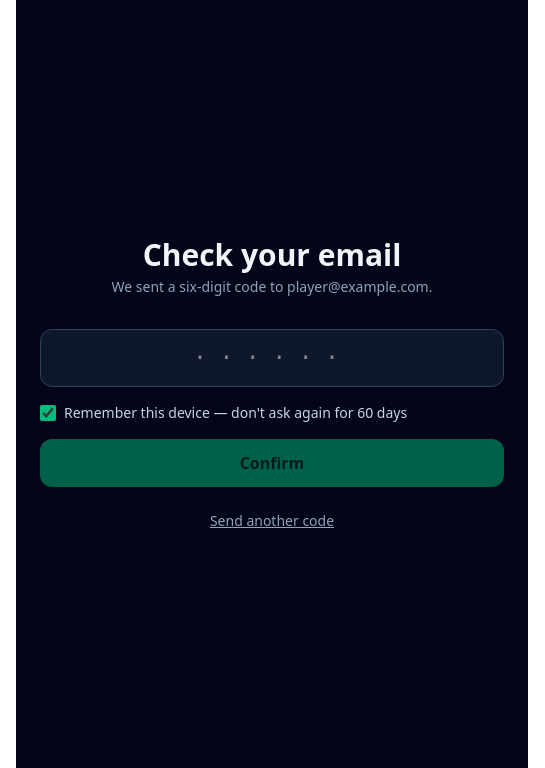
Test: VerifyCodeForm › tells the user when a code expired rather than failing quietly
Type "123456" into the field. click: (272, 358)
box: left=40, top=329, right=504, bottom=387
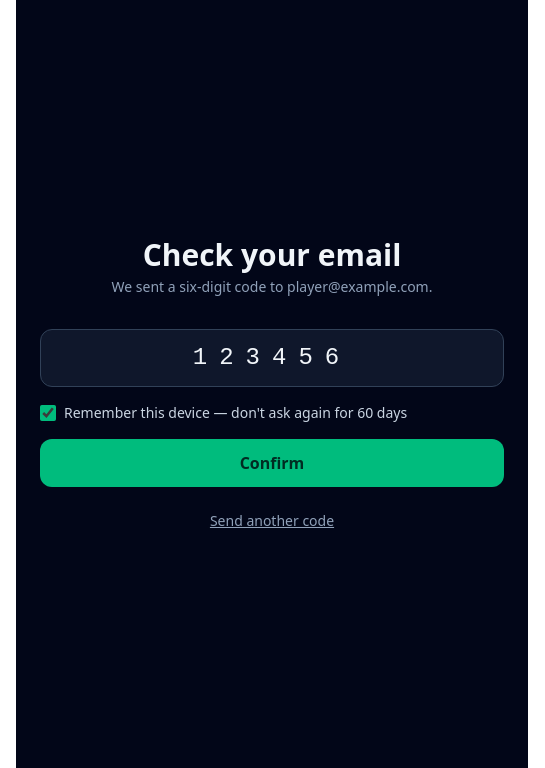
Click the button "Confirm". click: (272, 463)
box: left=40, top=439, right=504, bottom=487
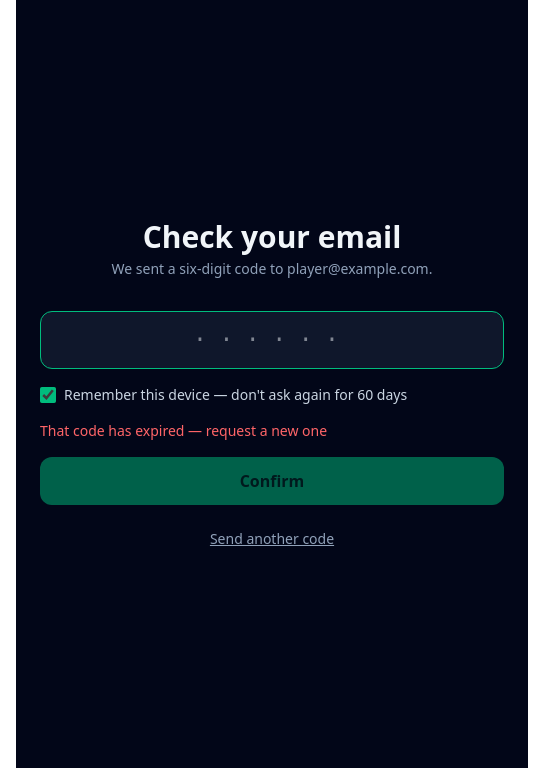
Expected: the text "That code has expired — request a new one" is shown, left=40, top=421, right=327, bottom=440
